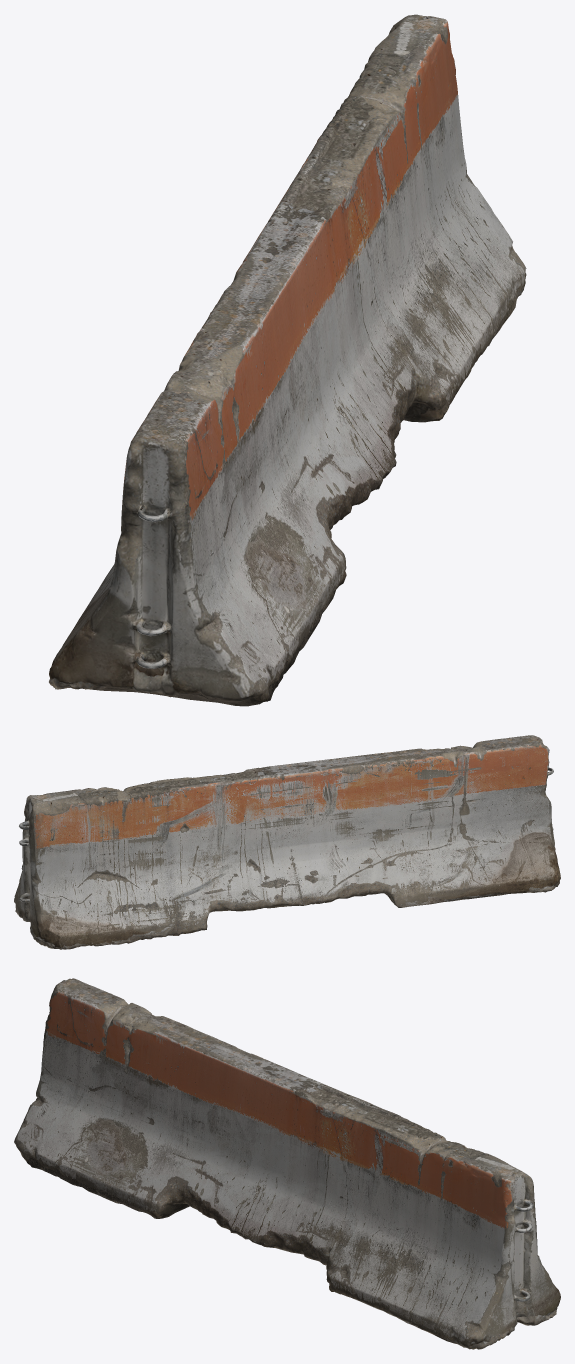
File: concrete.glb
3 views of the same model, one above another, from view 1: azimuth 30°, elevation 25°; view 2: azimuth 150°, elevation 25°; view 3: azimuth 270°, elevation 25° (orthographic). The views are drawn at different scales.
Visible parts, largest first — view 1: Aset_street_barrier_L_vkurdfd_00_LOD0_2; view 2: Aset_street_barrier_L_vkurdfd_00_LOD0_2; view 3: Aset_street_barrier_L_vkurdfd_00_LOD0_2.
Boxes of the visible parts, x1,y1,x2,y2 form: Aset_street_barrier_L_vkurdfd_00_LOD0_2: [49, 14, 526, 706]; Aset_street_barrier_L_vkurdfd_00_LOD0_2: [14, 735, 560, 949]; Aset_street_barrier_L_vkurdfd_00_LOD0_2: [14, 978, 560, 1349].
Bounding box in the file's own units: 2.54 × 0.8342 × 2.54.
Materials: 1 (1 with a texture image).
